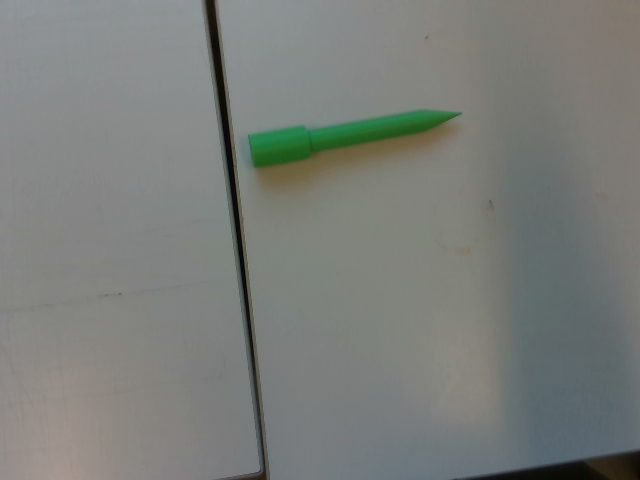Probe: (244, 102, 472, 175)
